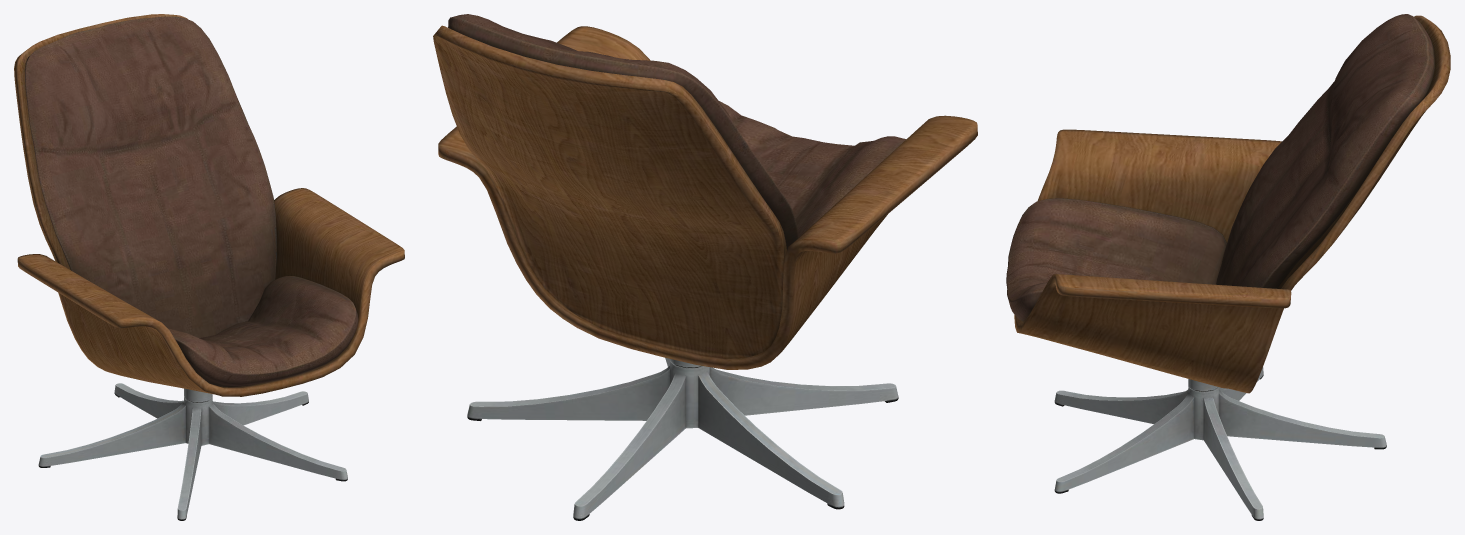
The model's file is mid_century_lounge_chair.glb.
3 views of the same model, side by side, from view 1: azimuth 30°, elevation 25°; view 2: azimuth 150°, elevation 25°; view 3: azimuth 270°, elevation 25° (orthographic). The views are drawn at different scales.
Visible parts, largest first — view 1: mid_century_lounge_chair; view 2: mid_century_lounge_chair; view 3: mid_century_lounge_chair.
Boxes of the visible parts, x1=… form: mid_century_lounge_chair: x1=14, y1=14, x2=404, y2=520; mid_century_lounge_chair: x1=433, y1=14, x2=977, y2=520; mid_century_lounge_chair: x1=1006, y1=14, x2=1450, y2=520.
Bounding box in the file's own units: 1.01 × 1.17 × 1.19.
1 material, 1 textured.
